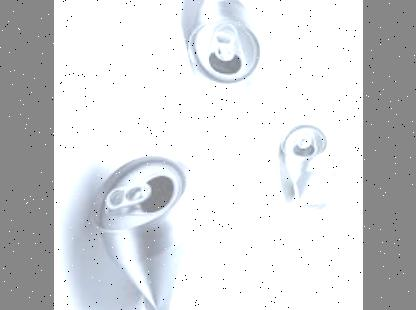Can: (87, 154, 243, 310), (185, 0, 290, 92), (277, 123, 341, 215)
